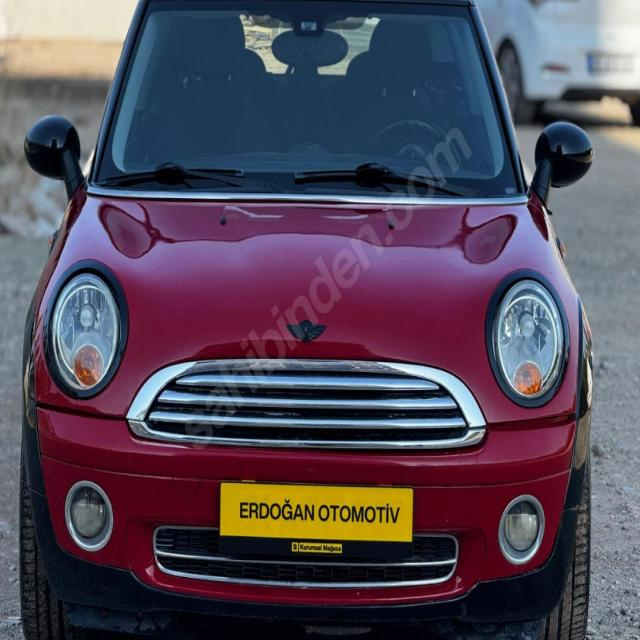mini: (279, 311, 331, 349)
